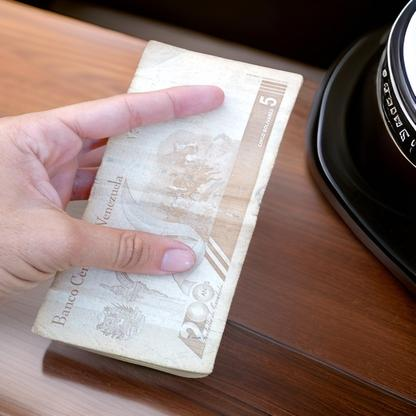five-back-vef: (31, 40, 302, 374)
